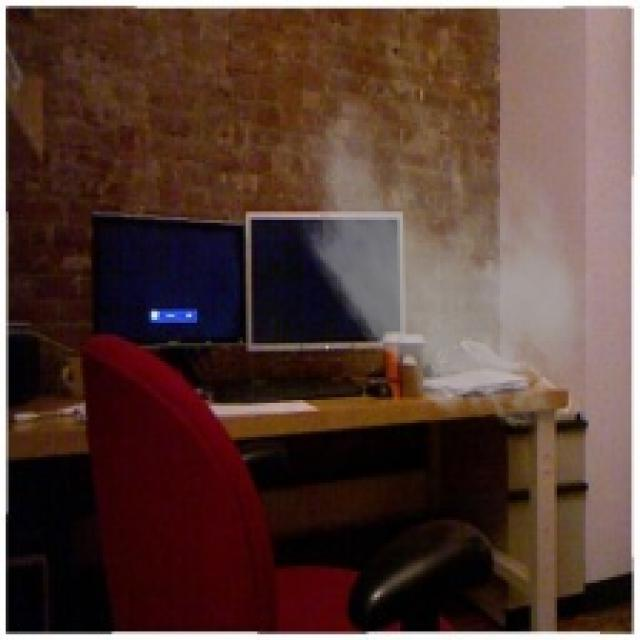smoke: (269, 40, 614, 443)
